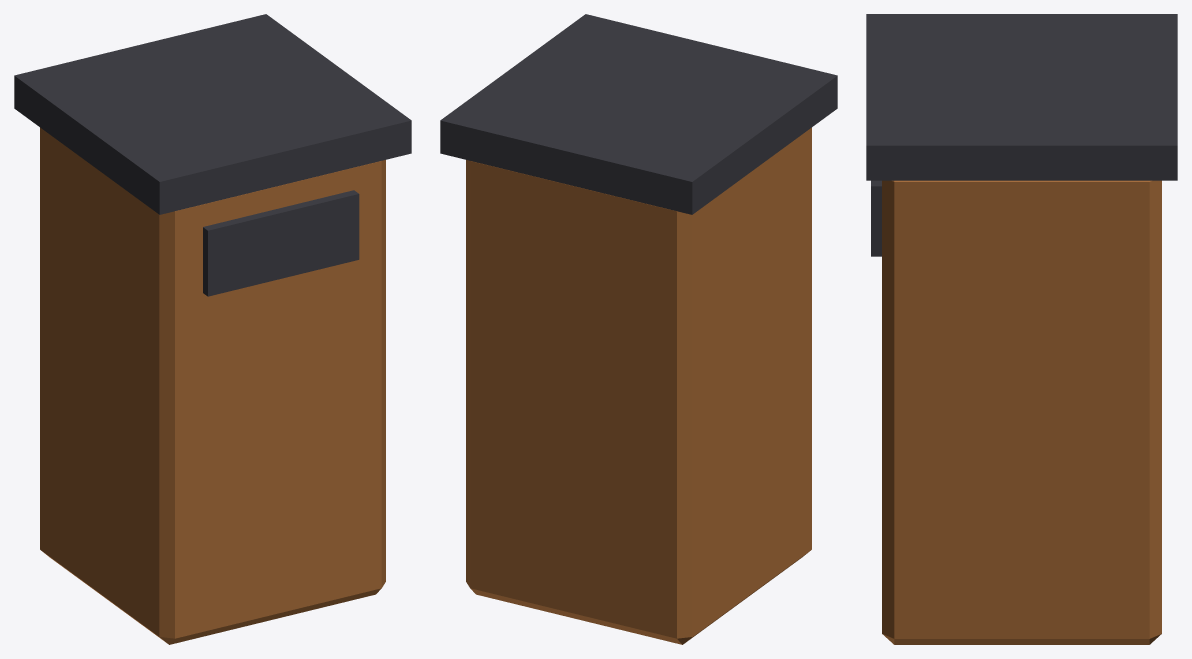
File: RestaurantTrashCan.fbx
3 renders of one model, left to right at view 1: azimuth 30°, elevation 25°; view 2: azimuth 150°, elevation 25°; view 3: azimuth 270°, elevation 25°, orthographic. The views are drawn at different scales.
Visible parts, largest first — view 1: RestaurantTrashCan; view 2: RestaurantTrashCan; view 3: RestaurantTrashCan.
Boxes of the visible parts, bbox=[...] form: RestaurantTrashCan: bbox=[14, 14, 411, 644]; RestaurantTrashCan: bbox=[440, 14, 837, 644]; RestaurantTrashCan: bbox=[866, 14, 1177, 644].
Size of the model in its own units: 2 by 3.62 by 2.
Materials: 1 (1 with a texture image).
